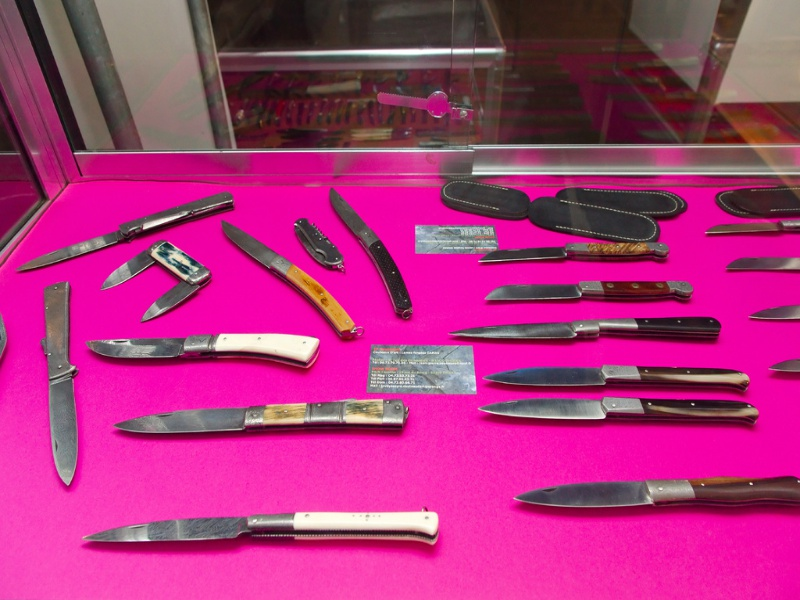knife: (215, 216, 366, 344), (16, 186, 234, 273), (79, 511, 444, 550), (514, 470, 800, 517), (327, 180, 416, 324), (111, 398, 412, 439), (90, 235, 217, 322), (478, 396, 762, 429), (37, 277, 81, 490), (82, 330, 322, 369), (479, 361, 754, 393), (450, 314, 725, 340), (479, 242, 672, 266), (486, 280, 695, 300), (703, 217, 800, 233), (722, 256, 800, 275), (747, 300, 800, 323), (766, 354, 800, 374)
